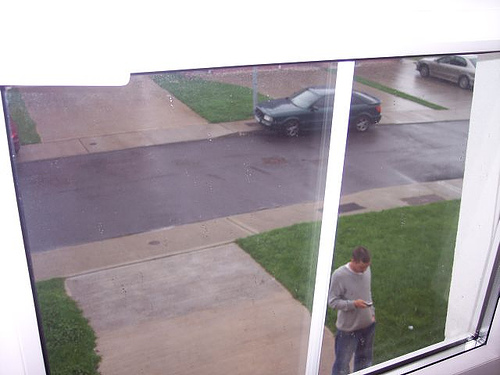without_mask: (346, 249, 371, 275)
